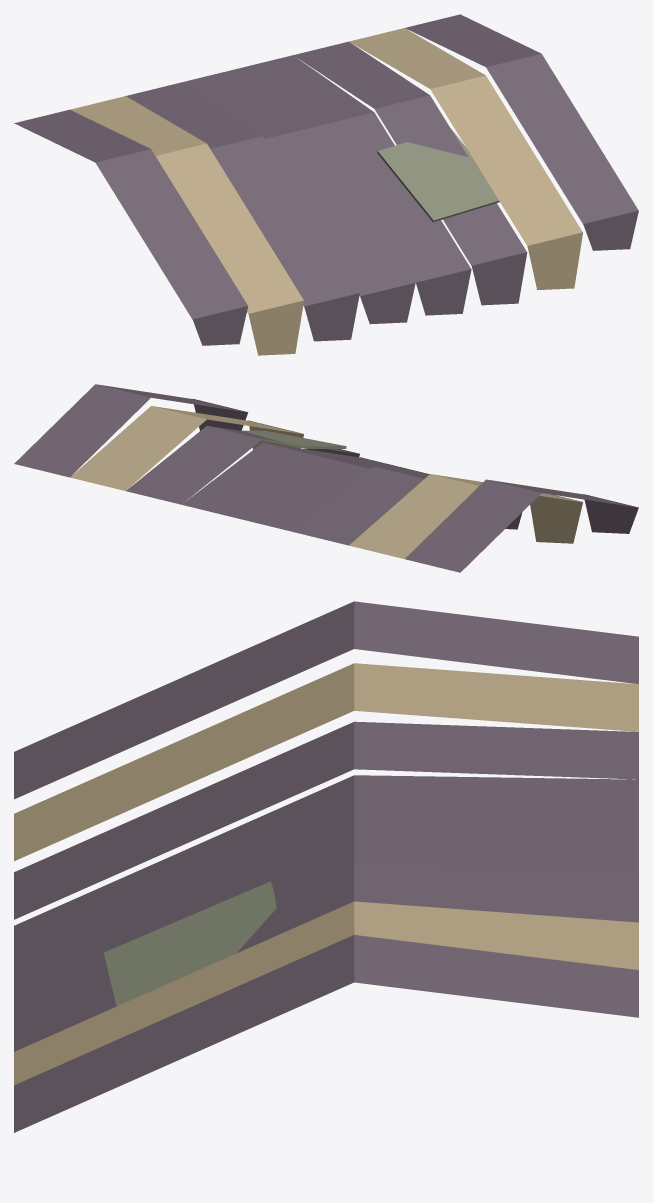
File: awning_plum.glb
3 views of the same model, one above another, from view 1: azimuth 30°, elevation 25°; view 2: azimuth 150°, elevation 25°; view 3: azimuth 270°, elevation 25° (orthographic). The views are drawn at different scales.
Visible parts, largest first — view 1: sun-faded canvas.027, sun-faded canvas.030, sun-faded canvas.031, sun-faded canvas.024, sun-faded canvas.026, sun-faded canvas.028, sun-faded canvas.025, sun-faded canvas.029, stitched canvas patch.003, frayed valance.030, frayed valance.025, frayed valance.029 (+5 smaller); view 2: sun-faded canvas.031, sun-faded canvas.024, sun-faded canvas.030, sun-faded canvas.028, sun-faded canvas.025, sun-faded canvas.029, sun-faded canvas.027, sun-faded canvas.026, frayed valance.025, frayed valance.024, stitched canvas patch.003, frayed valance.031 (+1 smaller); view 3: sun-faded canvas.025, sun-faded canvas.026, sun-faded canvas.024, sun-faded canvas.027, sun-faded canvas.031, sun-faded canvas.028, sun-faded canvas.030, sun-faded canvas.029, stitched canvas patch.003.
Boxes of the visible parts, left/top/right/bottom form: sun-faded canvas.027: left=182, top=69, right=415, bottom=296; sun-faded canvas.030: left=349, top=28, right=582, bottom=245; sun-faded canvas.031: left=405, top=14, right=638, bottom=224; sun-faded canvas.024: left=14, top=109, right=247, bottom=319; sun-faded canvas.026: left=126, top=82, right=359, bottom=306; sun-faded canvas.028: left=237, top=55, right=470, bottom=282; sun-faded canvas.025: left=70, top=96, right=303, bottom=313; sun-faded canvas.029: left=293, top=41, right=526, bottom=265; stitched canvas patch.003: left=377, top=129, right=499, bottom=222; frayed valance.030: left=527, top=232, right=582, bottom=289; frayed valance.025: left=248, top=300, right=303, bottom=355; frayed valance.029: left=471, top=252, right=527, bottom=305; sun-faded canvas.031: left=14, top=384, right=245, bottom=477; sun-faded canvas.024: left=405, top=479, right=636, bottom=572; sun-faded canvas.030: left=70, top=406, right=301, bottom=490; sun-faded canvas.028: left=181, top=442, right=413, bottom=518; sun-faded canvas.025: left=349, top=474, right=581, bottom=558; sun-faded canvas.029: left=126, top=425, right=357, bottom=504; sun-faded canvas.027: left=237, top=456, right=429, bottom=531; sun-faded canvas.026: left=293, top=466, right=428, bottom=545; frayed valance.025: left=530, top=494, right=582, bottom=543; frayed valance.024: left=583, top=494, right=638, bottom=533; stitched canvas patch.003: left=240, top=430, right=346, bottom=448; frayed valance.031: left=193, top=399, right=248, bottom=430; sun-faded canvas.025: left=14, top=663, right=638, bottom=861; sun-faded canvas.026: left=14, top=721, right=638, bottom=919; sun-faded canvas.024: left=14, top=601, right=638, bottom=799; sun-faded canvas.027: left=14, top=775, right=638, bottom=973; sun-faded canvas.031: left=14, top=935, right=638, bottom=1132; sun-faded canvas.028: left=14, top=823, right=638, bottom=1014; sun-faded canvas.030: left=14, top=901, right=638, bottom=1085; sun-faded canvas.029: left=14, top=864, right=638, bottom=1051; stitched canvas patch.003: left=104, top=881, right=276, bottom=1006.
Bounding box in the file's own units: 1.14 × 0.3645 × 0.79.
